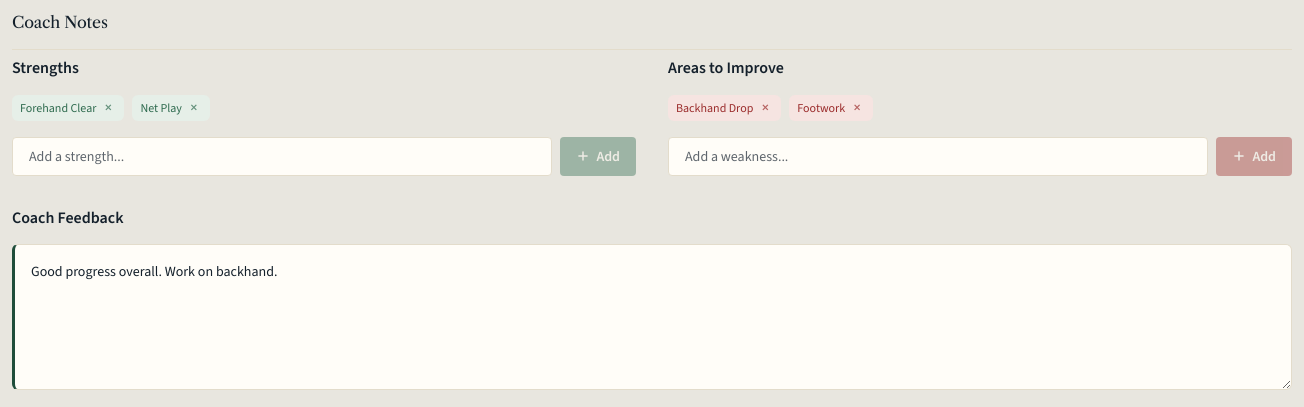
Test: TrainingTab › HEAD_COACH role - editable › adds a new strength tag via Enter key
Type "Drive" into the field named "New strength" at (282, 156), box [12,137,552,176]
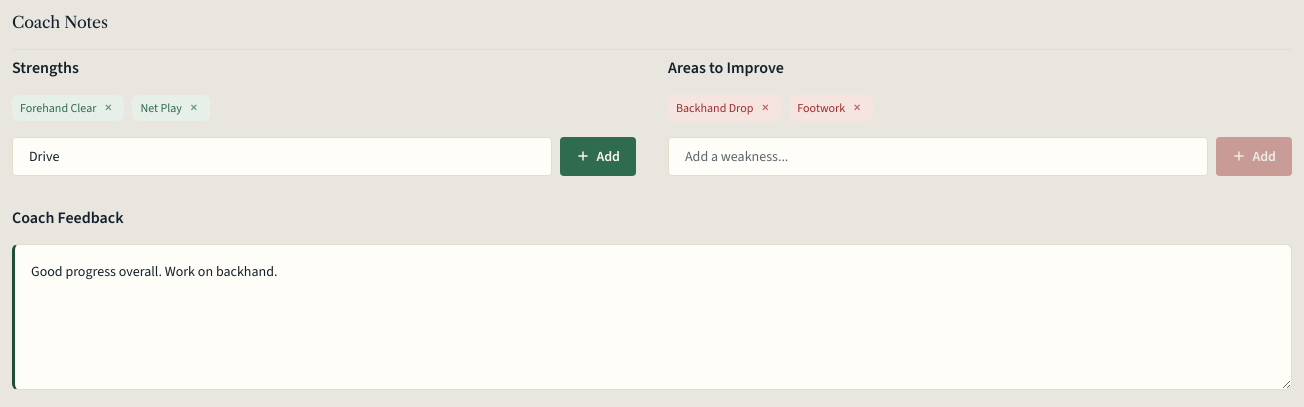
Press Enter in the field named "New strength", box [12,137,552,176]
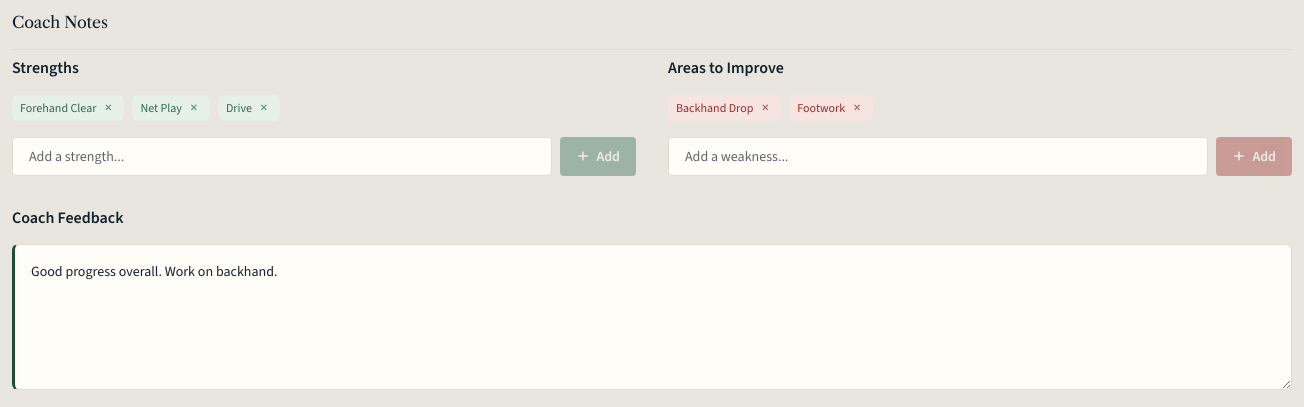
Expected: the text "Drive" is shown, [226,100,252,116]
